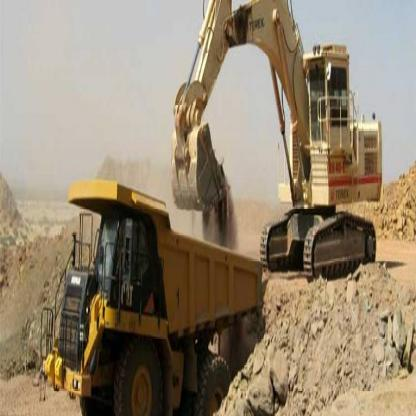dump_truck: (35, 174, 271, 415)
excavator: (163, 2, 385, 295)
